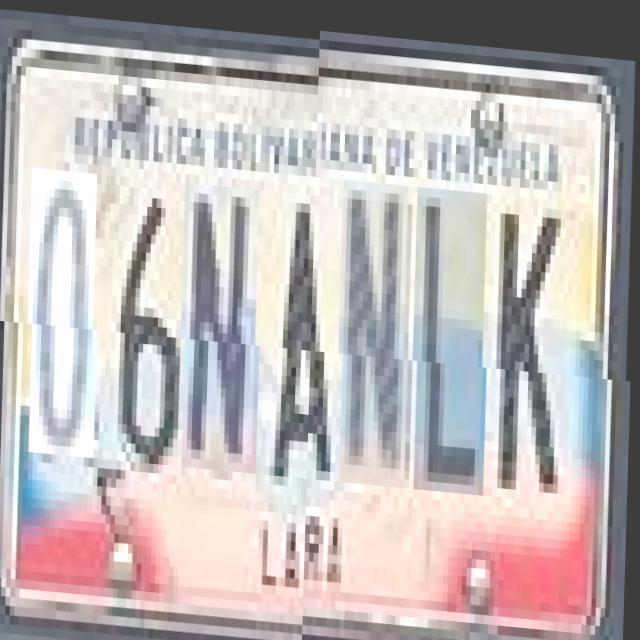0: (342, 182, 414, 488)
E: (184, 180, 266, 468)
L: (416, 188, 493, 495)
N: (184, 180, 266, 468), (342, 182, 414, 488)
O: (416, 188, 493, 495), (31, 168, 103, 456)
